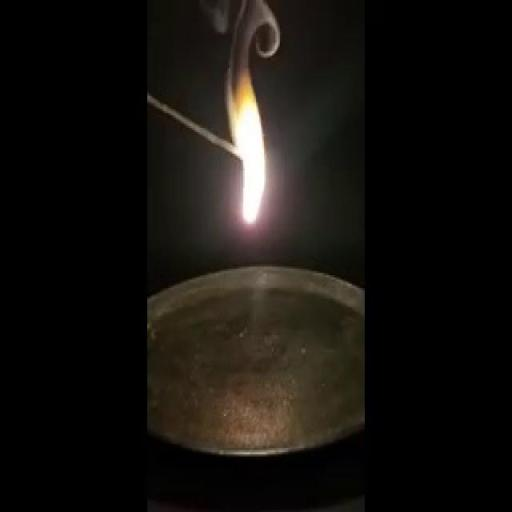smoke: (210, 37, 273, 247)
